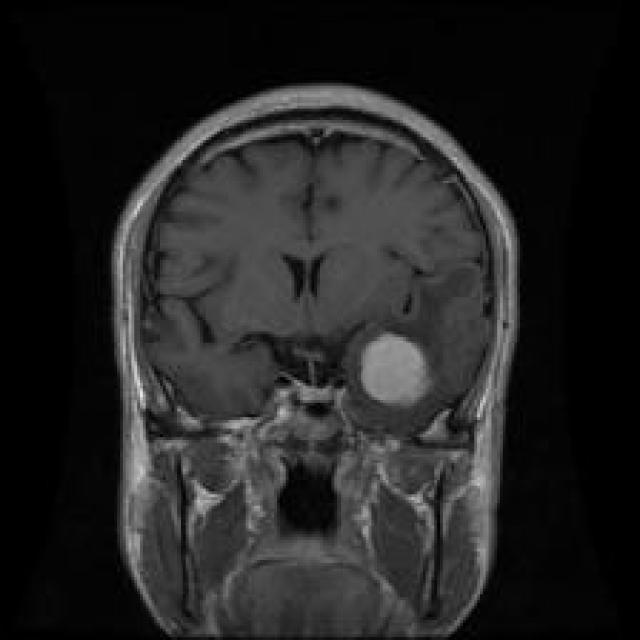meningioma_tumor: (347, 320, 439, 417)
